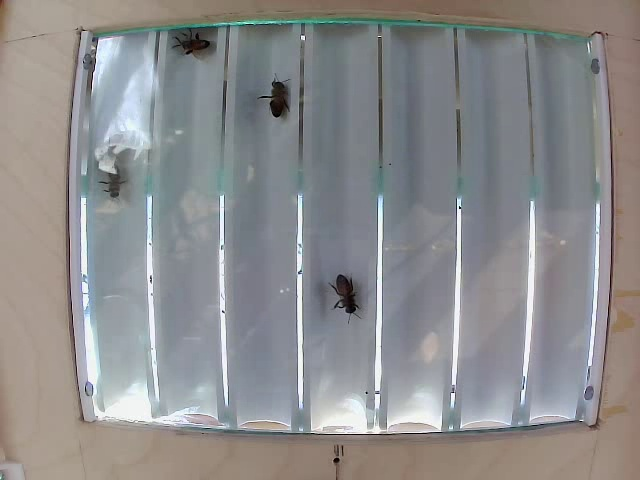bee: (323, 270, 364, 334), (257, 73, 296, 127), (167, 29, 227, 64), (95, 158, 134, 207)
